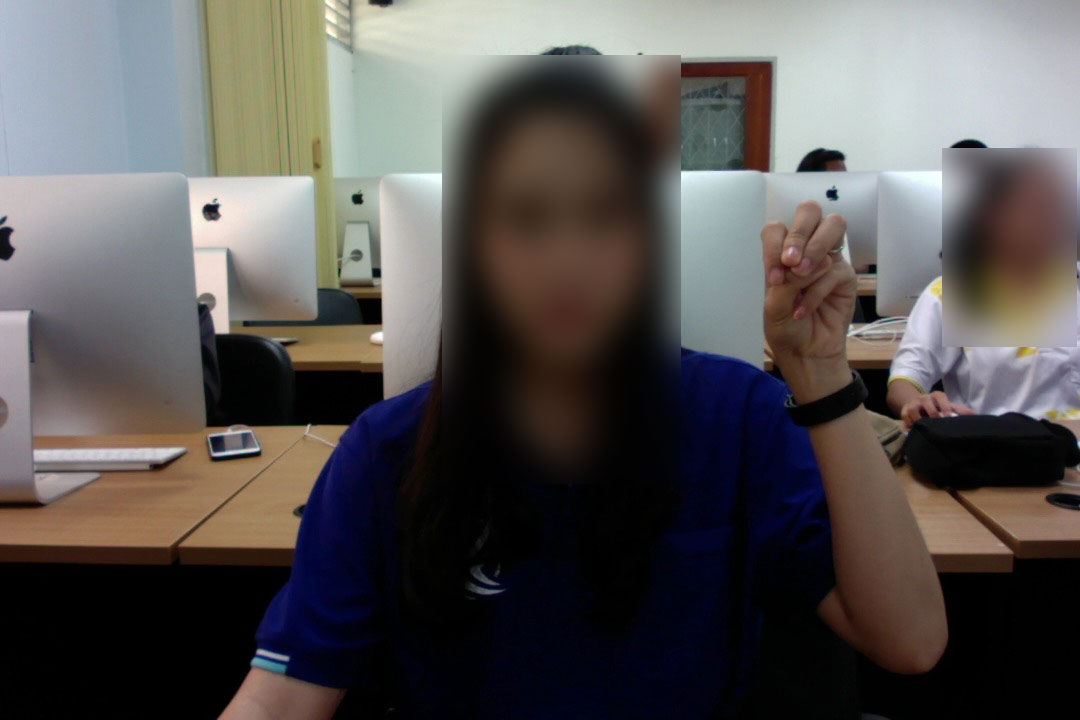mor: (743, 190, 868, 372)
